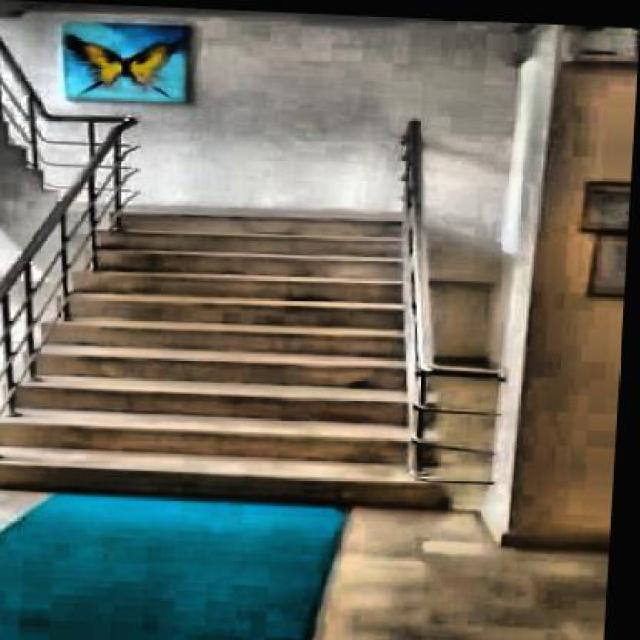stair: (0, 204, 500, 514)
